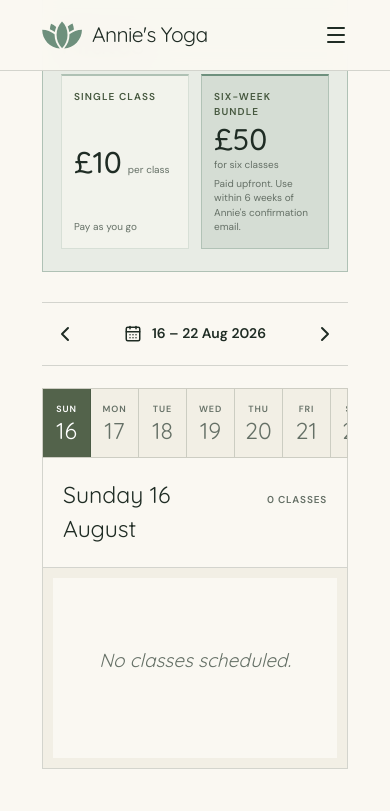
Test: SchedulePage reservations › uses a focused day chooser on small screens
The width and height of the screenshot is (390, 811).
(page scrolled)
Expected: the element labelled "Sunday 16 August" shows "0 classes", [42,458,348,769]
Click the button with aria-label "Select Monday 17 August": (115, 423) [91,389,139,457]
(page scrolled)
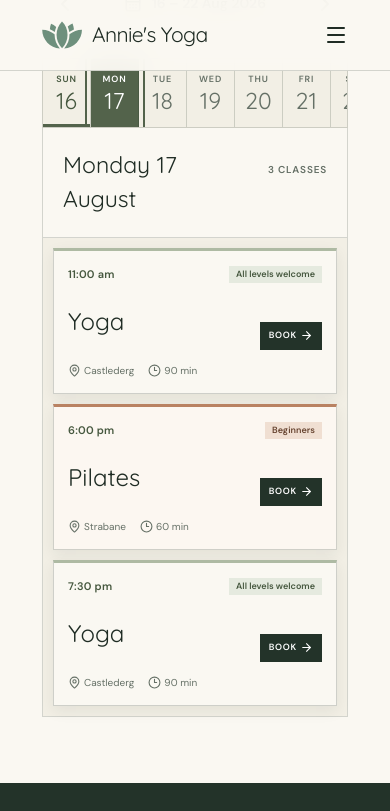
Now the element labelled "Monday 17 August" shows "3 classes", box [42,128,348,717]
Now the number of buttons "Book" is 3, box [260,322,322,350]; [260,478,322,506]; [260,634,322,662]
